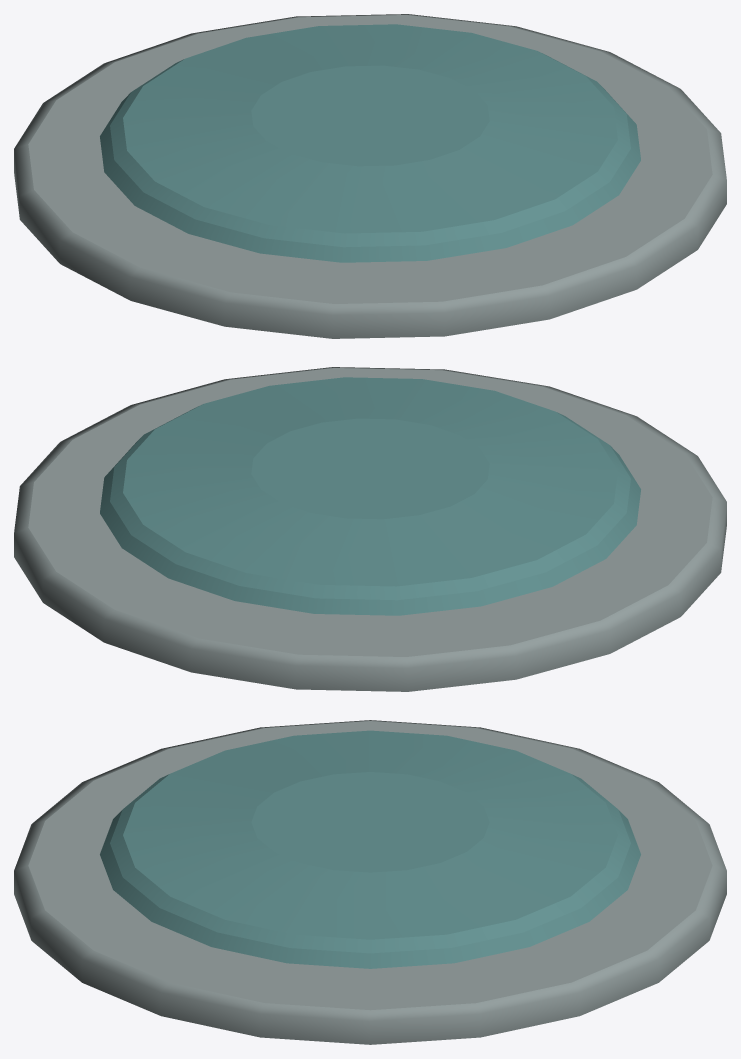
Rendered from Bounce_Pad.fbx.
3 renders of one model, top to bottom at view 1: azimuth 30°, elevation 25°; view 2: azimuth 150°, elevation 25°; view 3: azimuth 270°, elevation 25°, orthographic.
Visible parts, largest first — view 1: pCylinder1; view 2: pCylinder1; view 3: pCylinder1.
Boxes of the visible parts, box(x1,y1,x2,y2) form: pCylinder1: box(14, 14, 726, 338); pCylinder1: box(14, 367, 726, 691); pCylinder1: box(14, 720, 726, 1044).
Size of the model in its own units: 4 by 0.4457 by 4.
